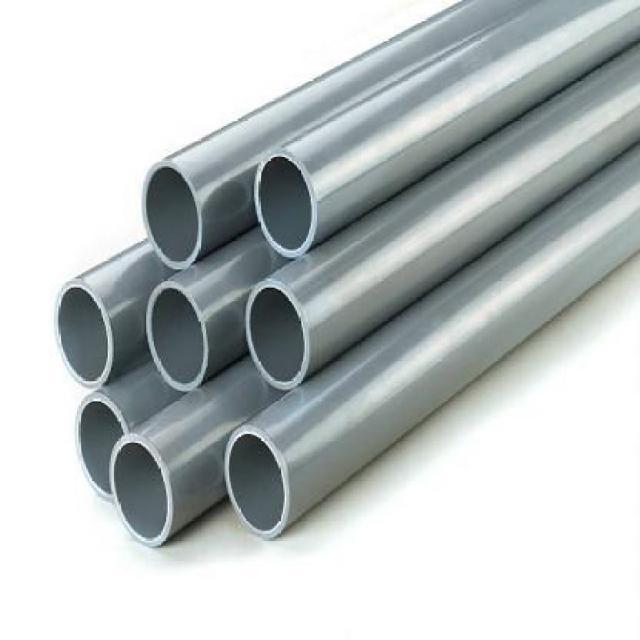pipe: (228, 435, 284, 532), (251, 288, 305, 382), (145, 167, 197, 262), (258, 157, 311, 250), (115, 444, 166, 540), (152, 289, 203, 384), (57, 288, 107, 382), (80, 402, 123, 497)
